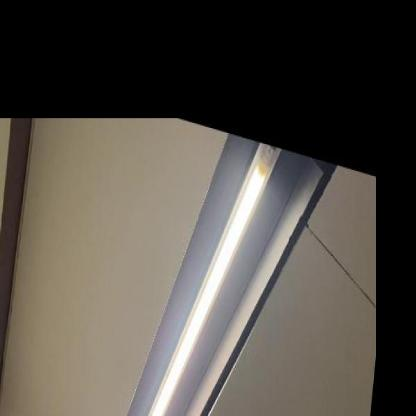light_on: (105, 107, 283, 415)
